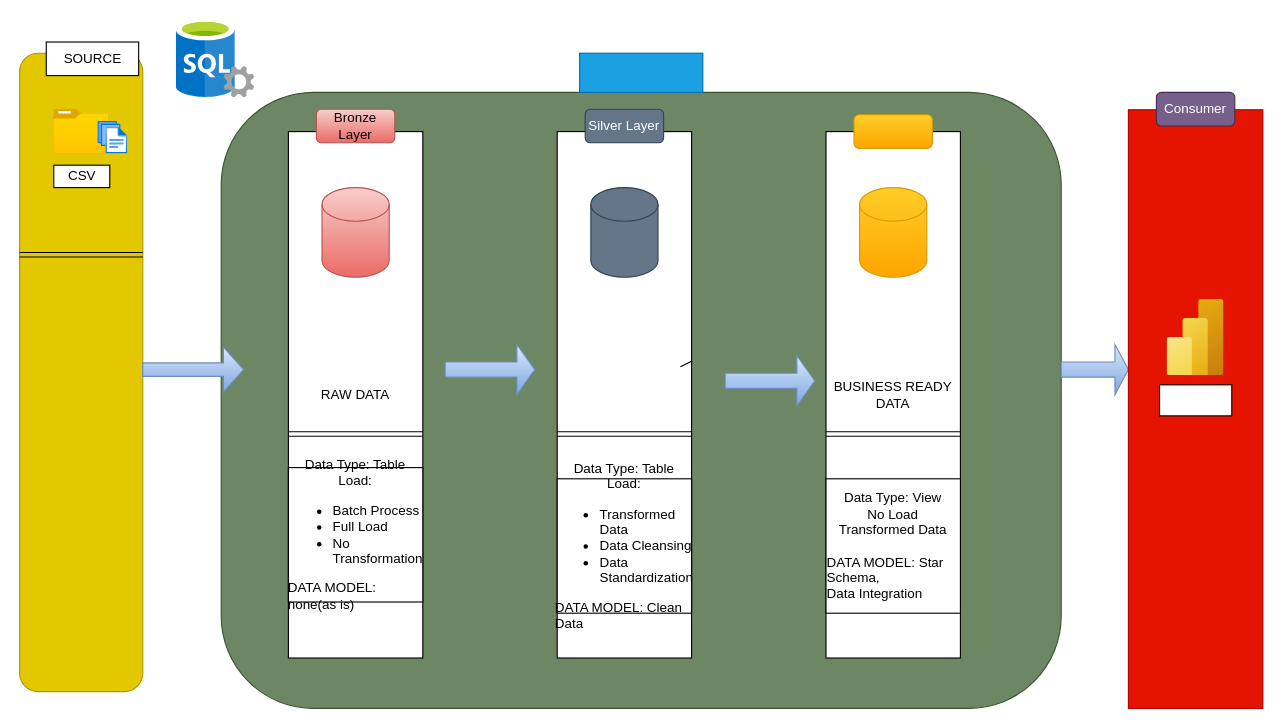
Image size: 1282x728. Some labels were removed from this diagram. The shapes that lost their labels are listed below. From the top down, each one's box as (x1, y1, x2, y2) in pixels, then its label:
(578, 52, 703, 92): DATA WAREHOUSE
(853, 114, 932, 148): Gold ;Layer
(18, 52, 143, 692): Data Type: CSV Files
(556, 130, 692, 658): CLEANED DATA TRANSFORMED STANDARD DATA
(1158, 384, 1232, 416): POWERBI
